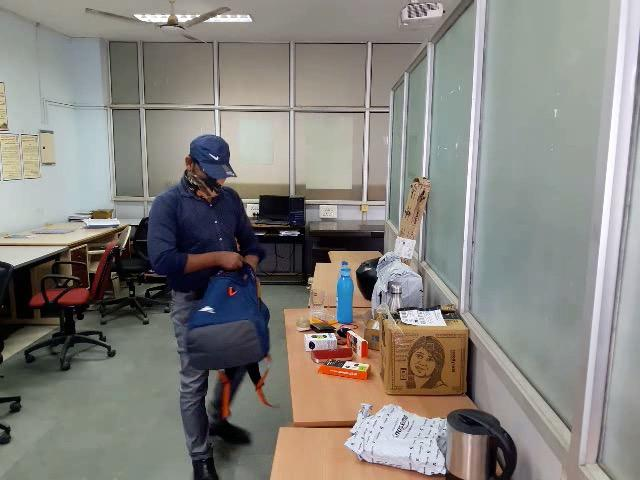Normal: (4, 1, 478, 480)
shoplifting: (142, 208, 319, 382)
